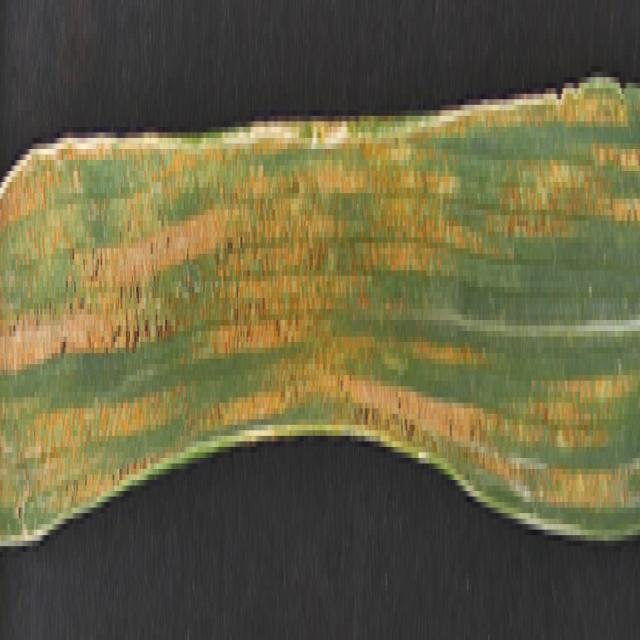leaf rust: (1, 66, 639, 535)
